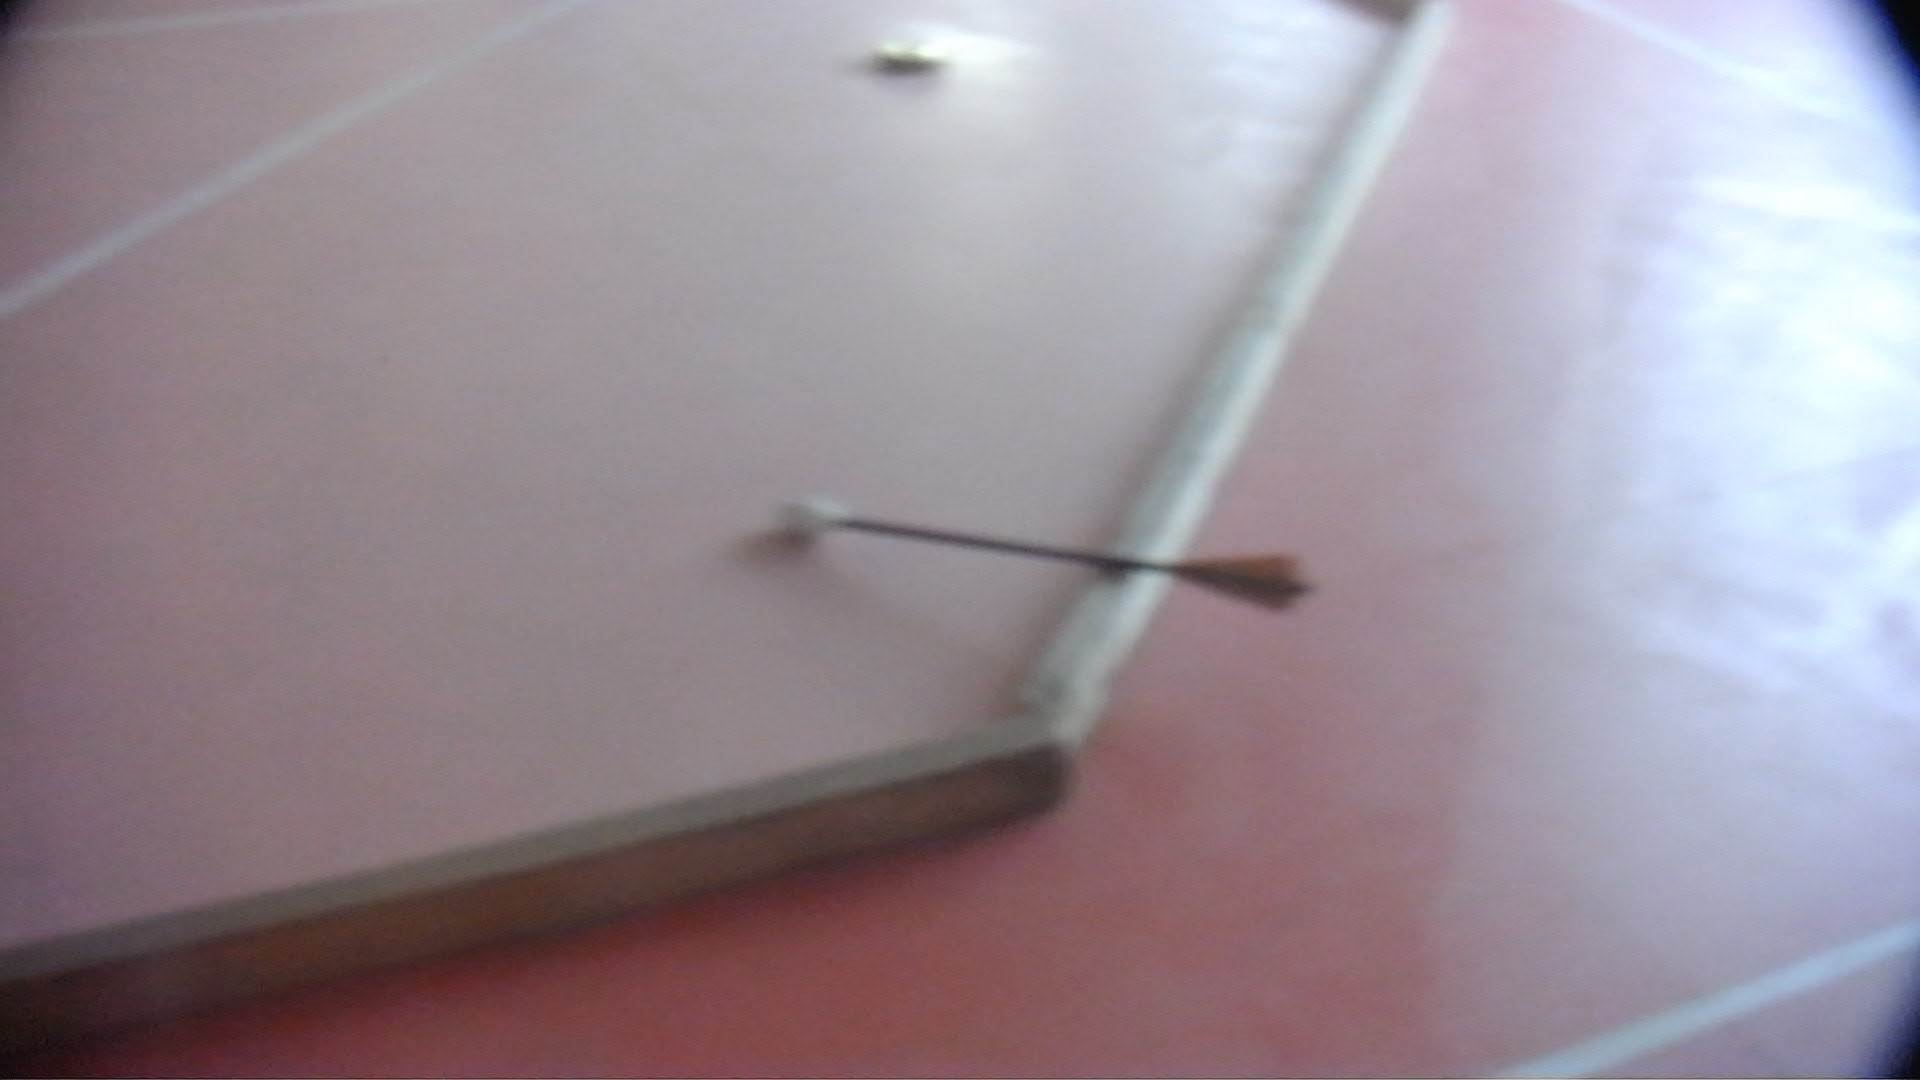arrow: (775, 497, 1315, 618)
arrowFront: (779, 496, 852, 535)
